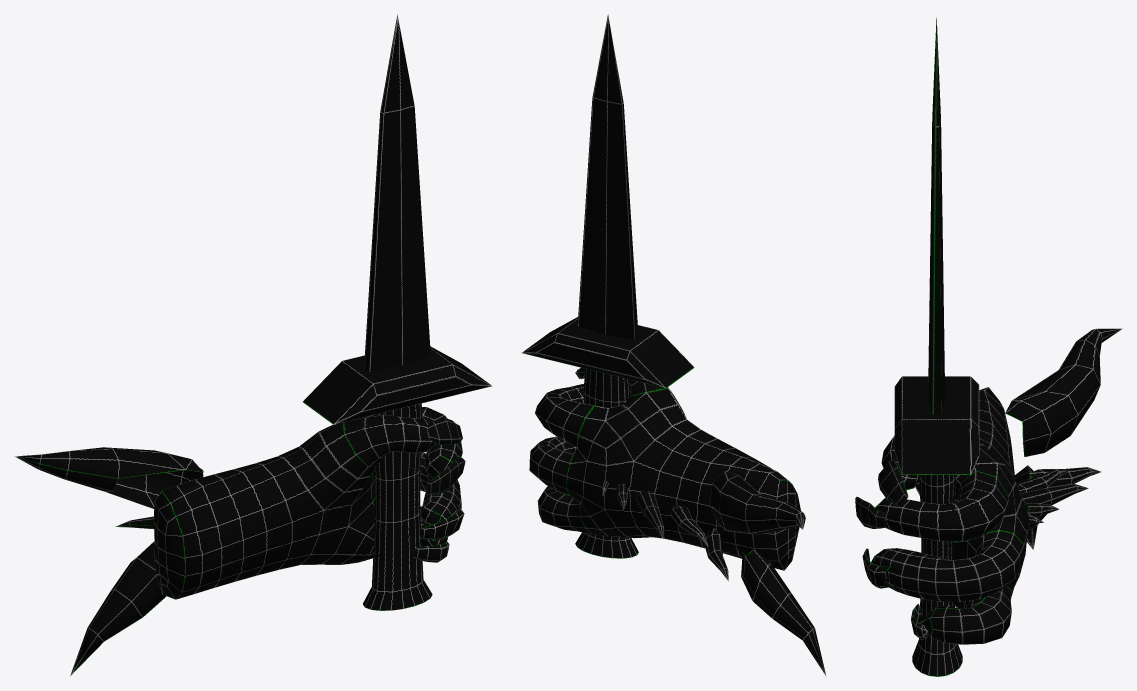
The model's file is left.fbx.
3 views of the same model, side by side, from view 1: azimuth 30°, elevation 25°; view 2: azimuth 150°, elevation 25°; view 3: azimuth 270°, elevation 25° (orthographic). The views are drawn at different scales.
Visible parts, largest first — view 1: MAW135_019, Box004, MAW138_017, Cylinder003, Box003, MAW138_016; view 2: MAW135_019, Box004, MAW138_017, Box003, Cylinder003, MAW138_015; view 3: MAW135_019, Box003, MAW138_017, Box004, Cylinder003, MAW138_016, MAW138_015.
Boxes of the visible parts, left/top/right/bottom form: MAW135_019: left=154, top=407, right=462, bottom=599; Box004: left=364, top=14, right=430, bottom=371; MAW138_017: left=14, top=447, right=203, bottom=676; Cylinder003: left=363, top=403, right=432, bottom=610; Box003: left=303, top=346, right=492, bottom=424; MAW138_016: left=413, top=417, right=465, bottom=562; MAW135_019: left=529, top=379, right=800, bottom=570; Box004: left=577, top=14, right=638, bottom=339; MAW138_017: left=709, top=471, right=826, bottom=676; Box003: left=522, top=317, right=694, bottom=388; Cylinder003: left=575, top=368, right=638, bottom=558; MAW138_015: left=602, top=481, right=728, bottom=581; MAW135_019: left=871, top=387, right=1030, bottom=644; Box003: left=894, top=376, right=979, bottom=474; MAW138_017: left=1005, top=328, right=1122, bottom=550; Box004: left=928, top=17, right=945, bottom=414; Cylinder003: left=912, top=475, right=962, bottom=676; MAW138_016: left=855, top=459, right=927, bottom=639; MAW138_015: left=1016, top=467, right=1101, bottom=523.
Size of the model in its own units: 29.78 by 47.14 by 16.6.
